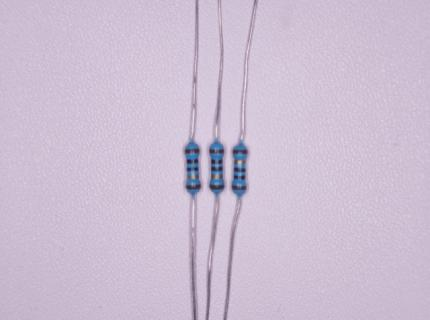Black band: (234, 168, 246, 172), (187, 167, 198, 171), (187, 159, 198, 163), (211, 160, 222, 164), (212, 167, 223, 171), (234, 176, 245, 179)
Brown band: (185, 148, 199, 153), (233, 149, 247, 154), (210, 184, 224, 189), (186, 184, 200, 189), (233, 185, 246, 190), (209, 149, 223, 153)
Gold band: (234, 160, 246, 164), (211, 175, 222, 179), (187, 175, 198, 179)
